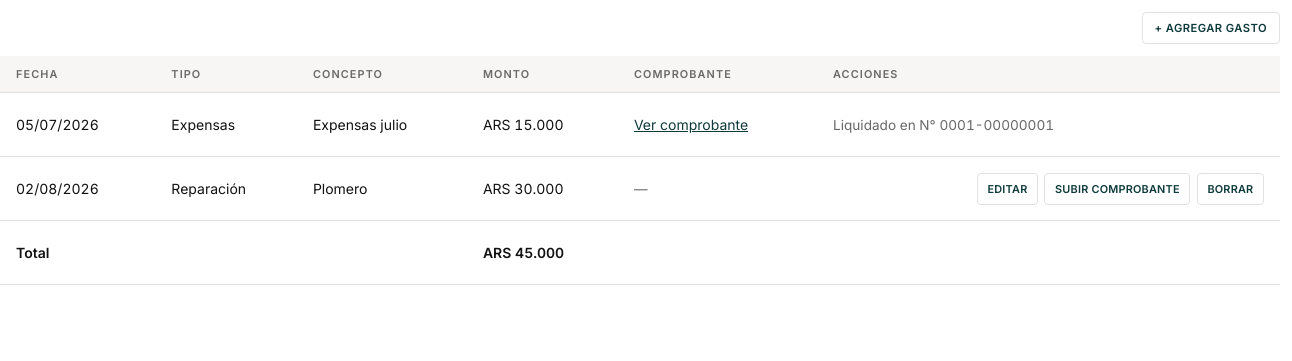
borrar pide confirmación y muestra el 409 del backend
The width and height of the screenshot is (1292, 361).
Click the button "Borrar" at (1230, 189), box [1197, 173, 1264, 205]
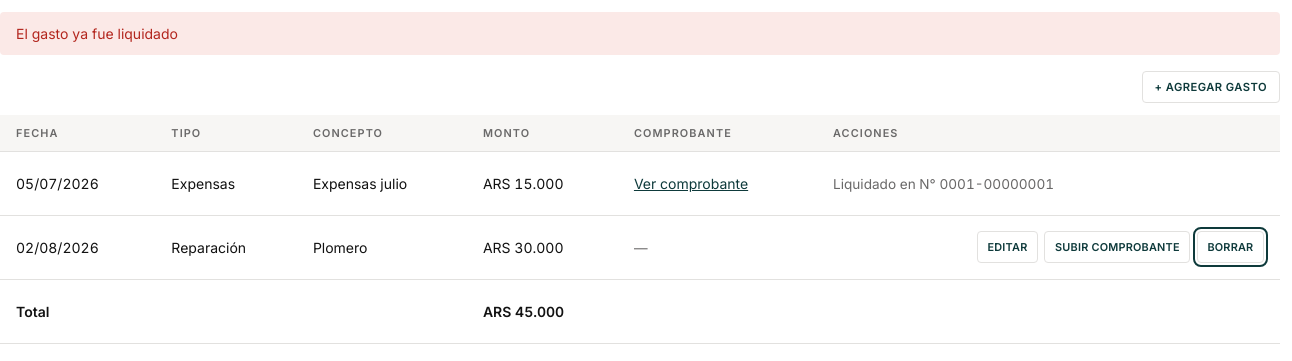
expect the message reads "El gasto ya fue liquidado": met, box [16, 25, 178, 42]
